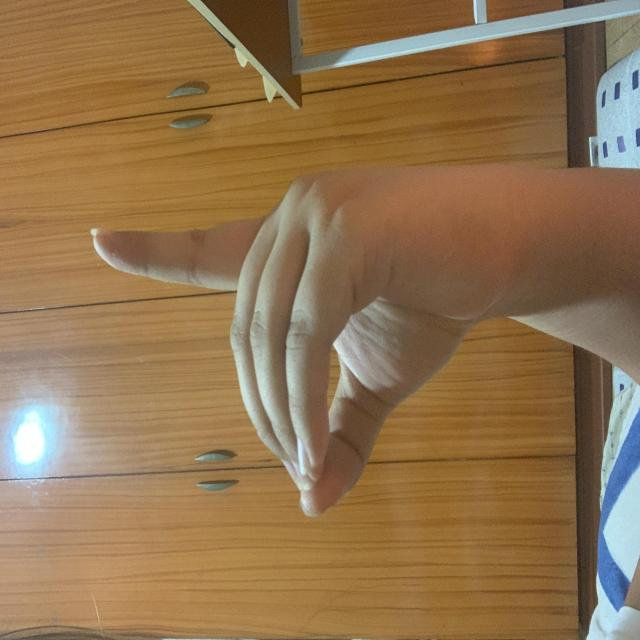D: (155, 90, 518, 511)
